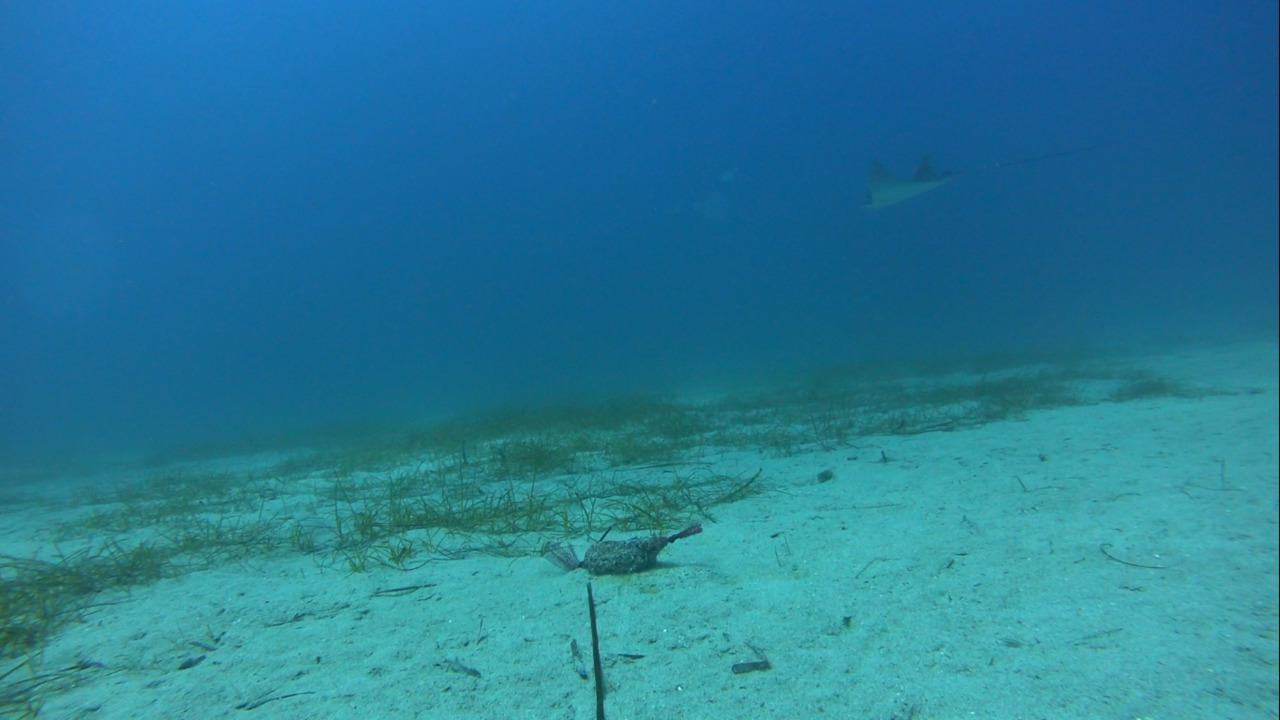myliobatis: (838, 138, 1148, 216)
